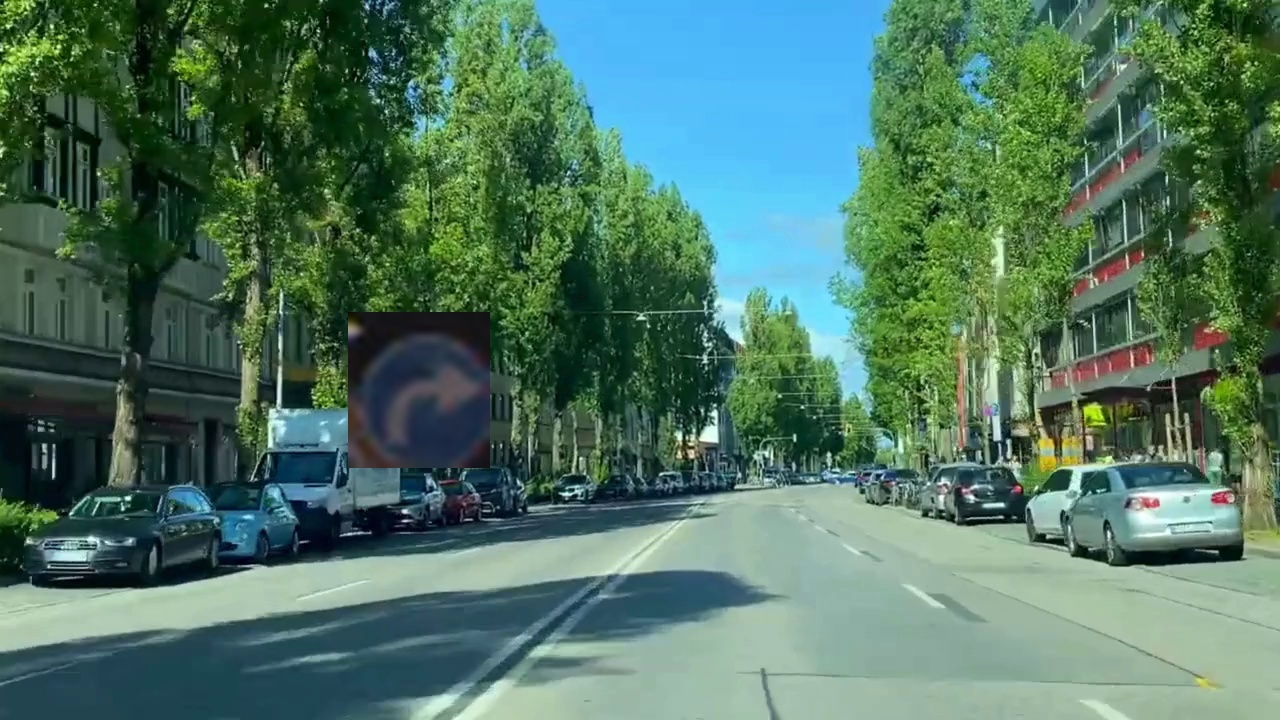Turn right: (348, 312, 490, 468)
